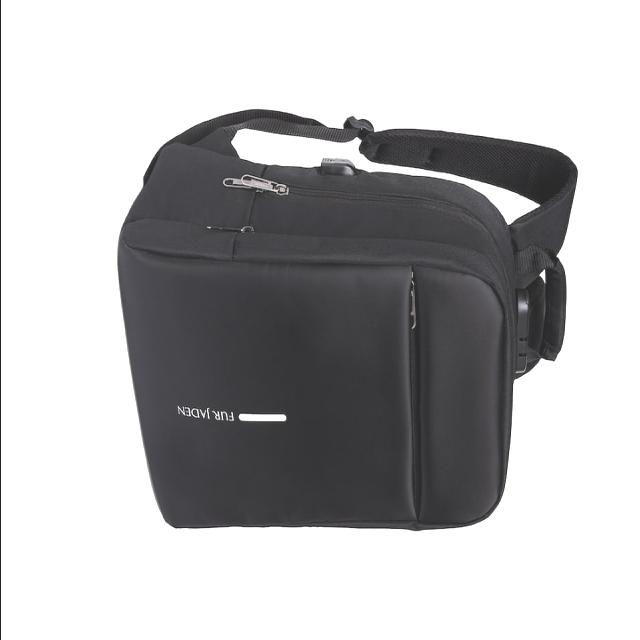backpack: (117, 110, 579, 532)
